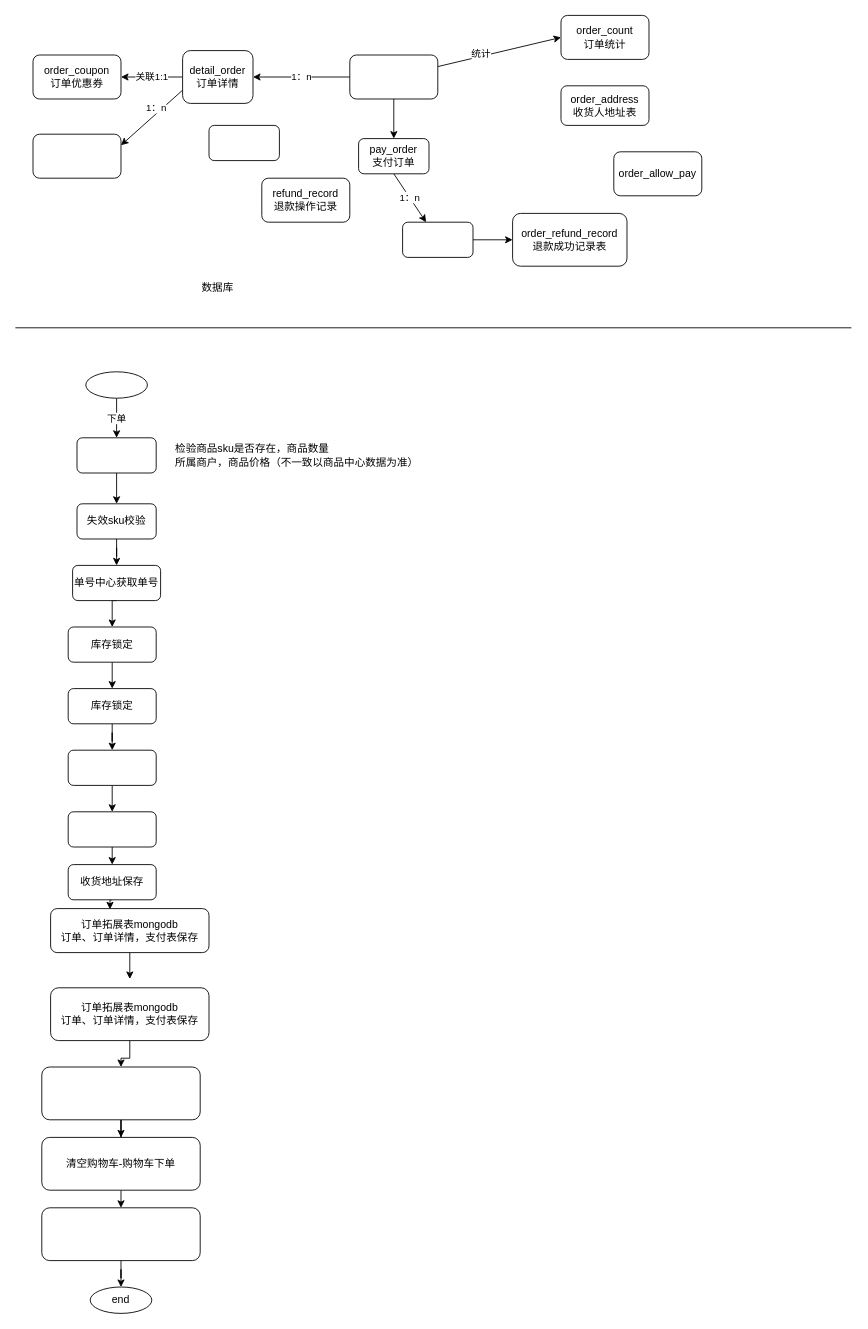
Image size: 868x1329. Some labels were removed from this diagram. The centre of each missing label's shape, as x and y in pixels:
"order_info 订单" goes at (393,76).
"order_record 操作记录" goes at (76,155).
"refund 退款" goes at (243,143).
"refund_order 退款申请单" goes at (437,239).
"保存订单操作记录" goes at (120,1093).
"发送订单超时mq" goes at (120,1234).
"星荐官是否分佣" goes at (111,767).
"计算中心计算分佣金额" goes at (111,829).
"验证商品" goes at (116,455).
